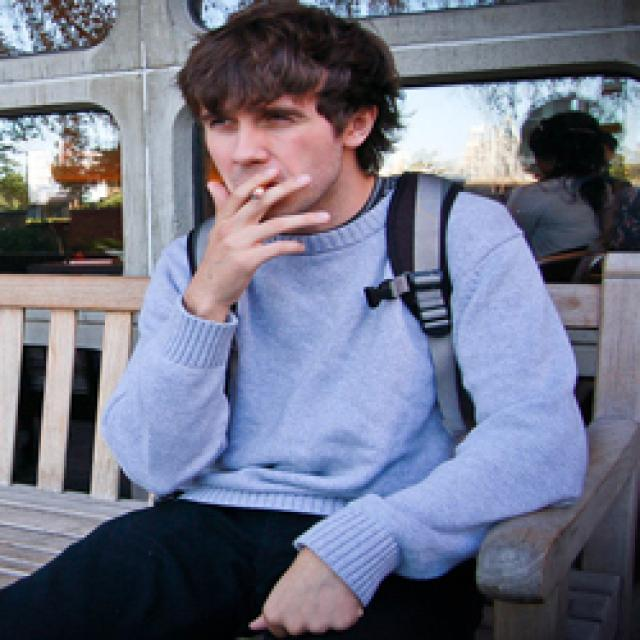Smooking: (243, 178, 273, 204)
